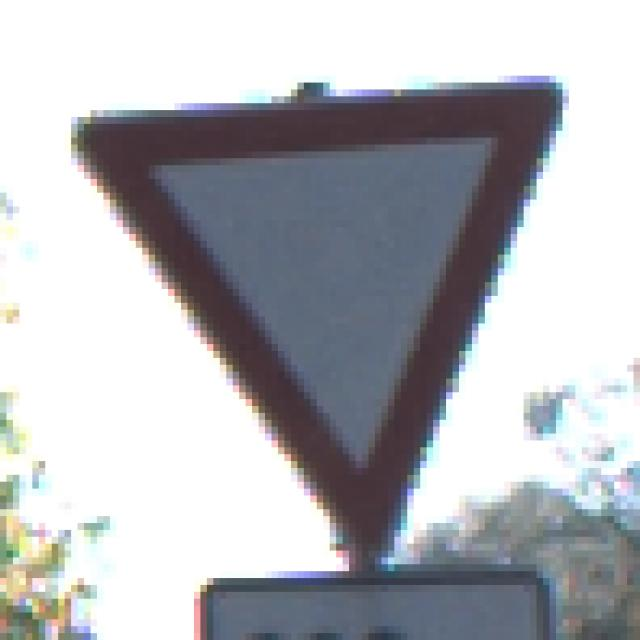Give Way: (53, 56, 589, 586)
